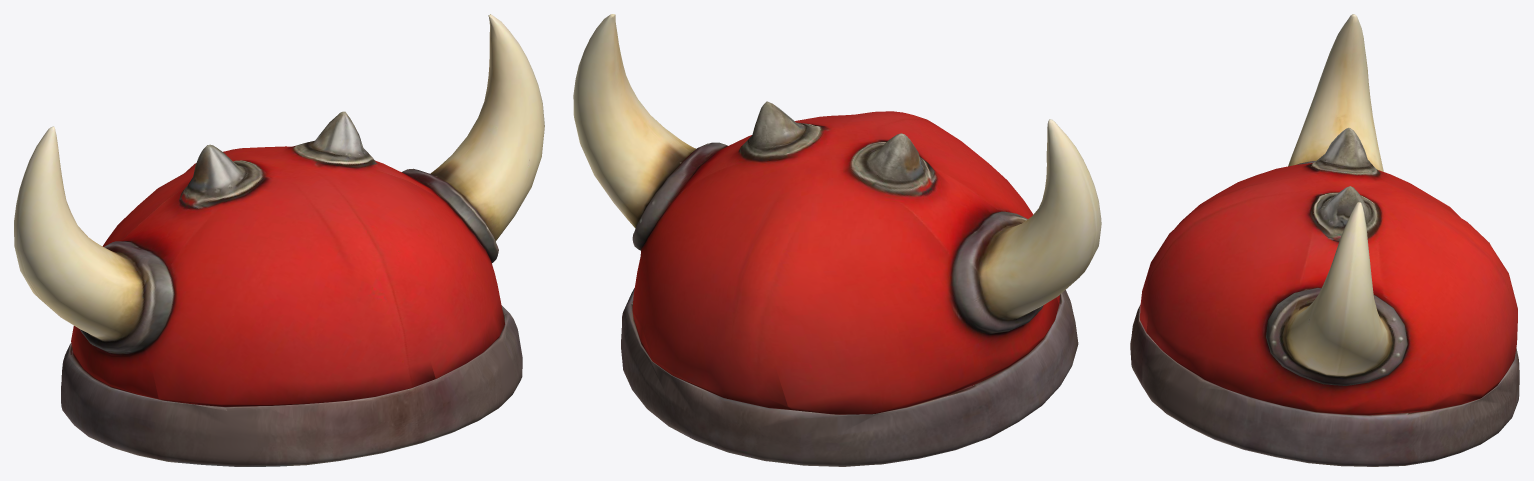
Rendered from Viking-Helmet-Red.glb.
3 renders of one model, left to right at view 1: azimuth 30°, elevation 25°; view 2: azimuth 150°, elevation 25°; view 3: azimuth 270°, elevation 25°, orthographic. The views are drawn at different scales.
Visible parts, largest first — view 1: Viking-Helmet-Red; view 2: Viking-Helmet-Red; view 3: Viking-Helmet-Red.
Part boxes in pixels (bbox=[...]): Viking-Helmet-Red: bbox=[14, 14, 544, 466]; Viking-Helmet-Red: bbox=[573, 14, 1101, 466]; Viking-Helmet-Red: bbox=[1130, 14, 1519, 466].
Size of the model in its own units: 0.5905 by 0.3584 by 0.4313.
1 material, 1 textured.
